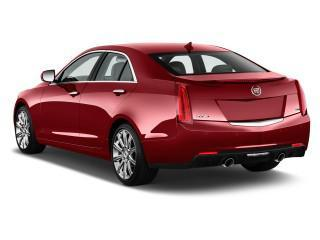cadillac: (245, 82, 265, 97)
